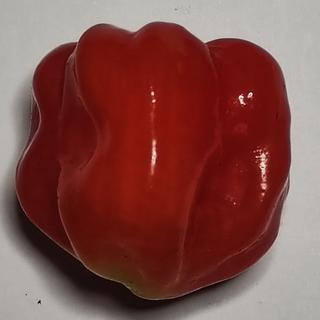Grade-B: (12, 15, 296, 301)
